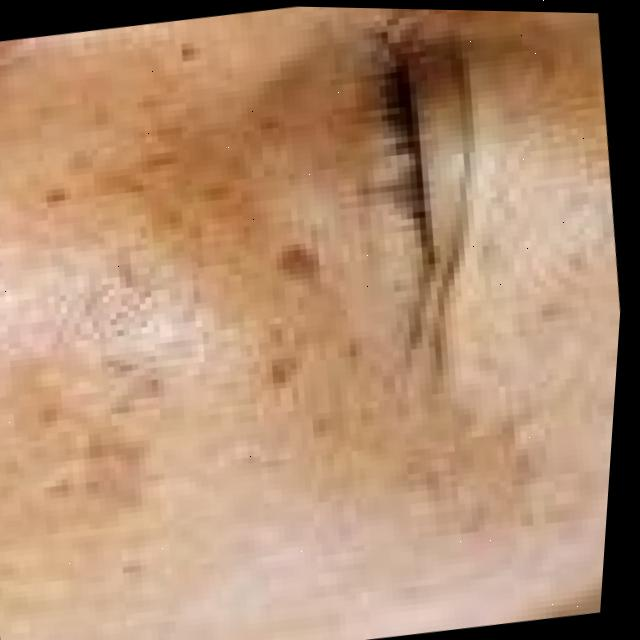Melasma: (0, 100, 402, 558)
